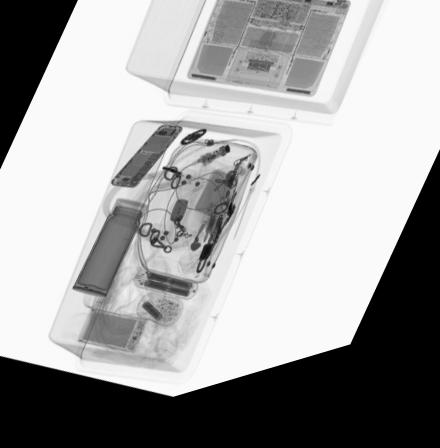Powerbank: (78, 313, 148, 360)
